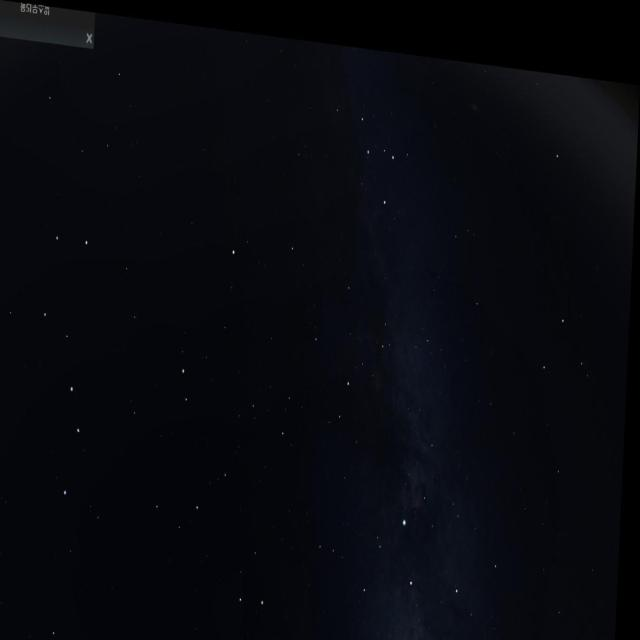cassiopeia: (328, 89, 416, 204)
cygnus: (356, 491, 468, 640)
ursa_major: (25, 218, 102, 520)
